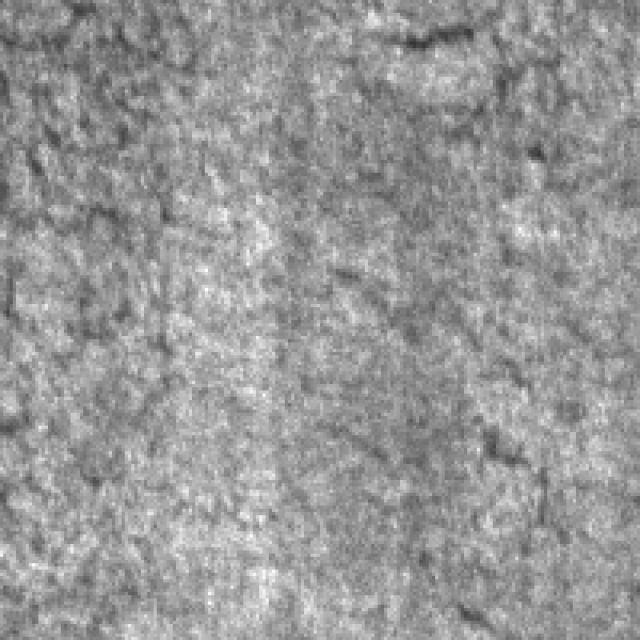crazing: (7, 7, 246, 516), (314, 246, 627, 634), (336, 3, 634, 195)
